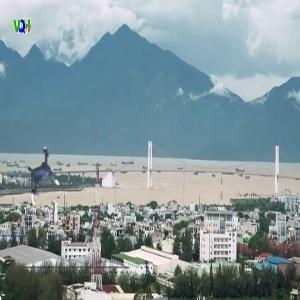drone: (16, 153, 71, 208)
